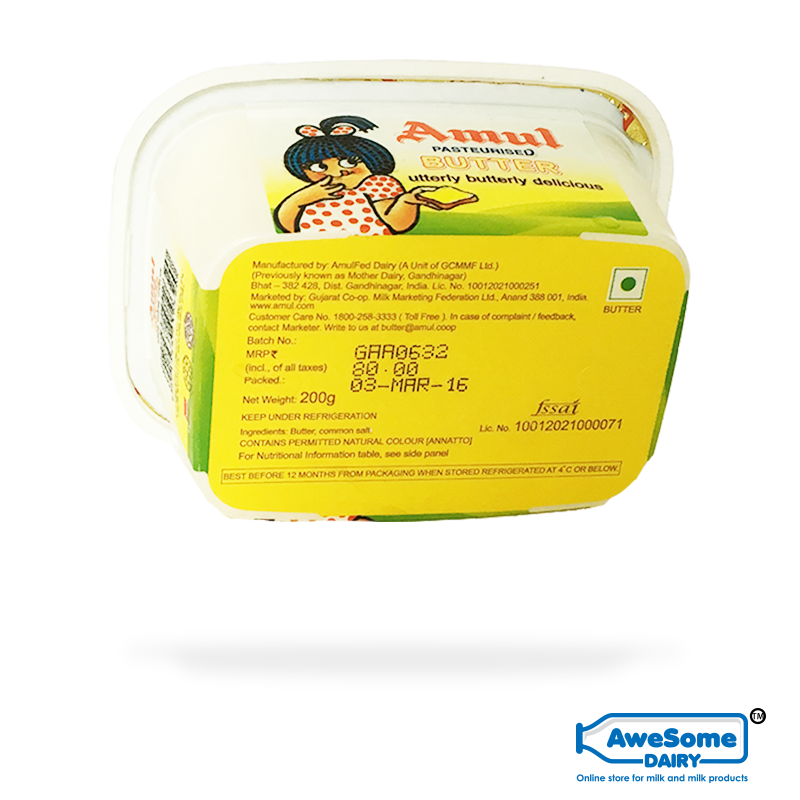VEG: (609, 268, 646, 302)
